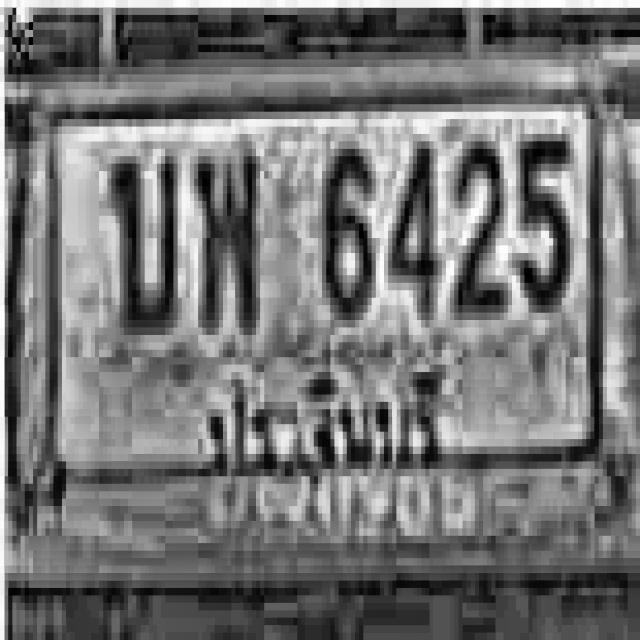license-plate: (3, 80, 640, 555)
